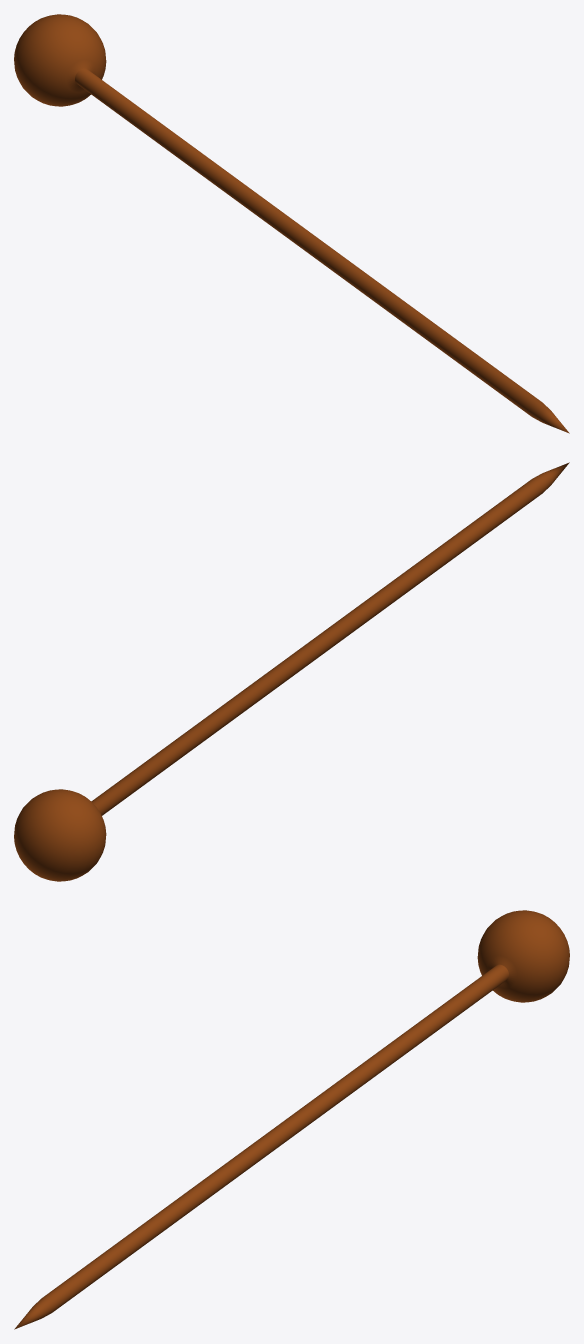
Rendered from SADDLE.glb.
3 views of the same model, one above another, from view 1: azimuth 30°, elevation 25°; view 2: azimuth 150°, elevation 25°; view 3: azimuth 330°, elevation 25° (orthographic).
Visible parts, largest first — view 1: Sphere; view 2: Sphere; view 3: Sphere.
Part boxes in pixels (box(x1,y1,x2,y2)): Sphere: box(14, 14, 569, 433); Sphere: box(14, 462, 569, 881); Sphere: box(14, 910, 569, 1329).
Bounding box in the file's own units: 0.02 × 0.02 × 0.2305.
